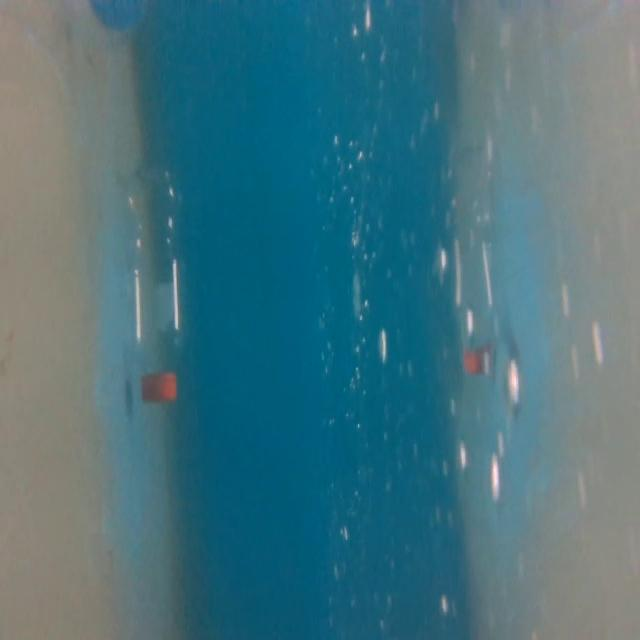plastic bottle: (115, 161, 200, 413)
